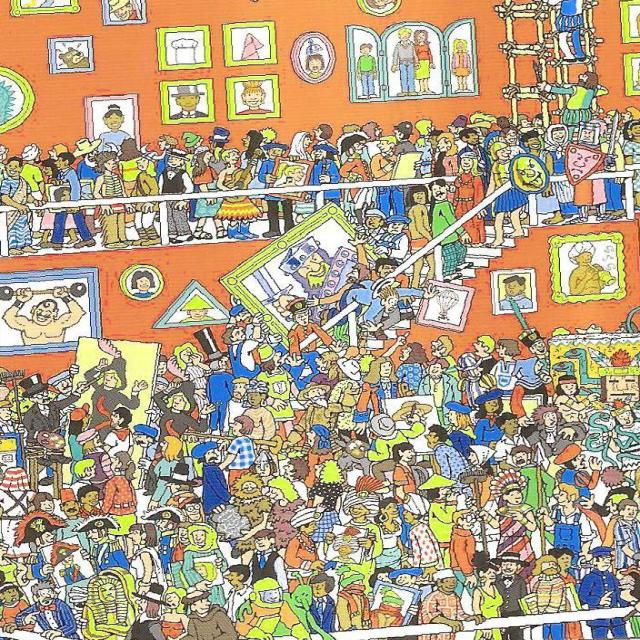waldo: (174, 495, 201, 521)
